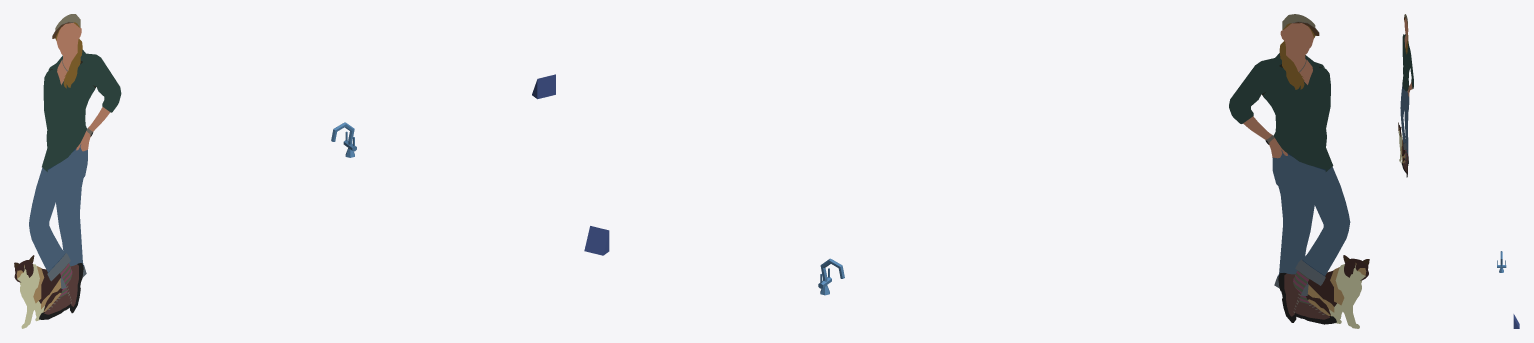
Rendered from kraan en boekenstandaard.fbx.
The picture shows the model from 3 angles, left to right: view 1: azimuth 30°, elevation 25°; view 2: azimuth 150°, elevation 25°; view 3: azimuth 270°, elevation 25°; orthographic projection. The views are drawn at different scales.
Parts seen in each view (by area): view 1: Heather1, Group1, Group2; view 2: Heather1, Group1; view 3: Heather1, Group2.
Boxes of the visible parts, x1,y1,x2,y2 form: Heather1: (14, 14, 121, 328); Group1: (532, 74, 555, 99); Group2: (331, 122, 356, 157); Heather1: (1229, 14, 1369, 328); Group1: (584, 226, 609, 255); Heather1: (1398, 14, 1413, 177); Group2: (1497, 251, 1506, 272).
Size of the model in its own units: 3732 by 1648 by 1121.
